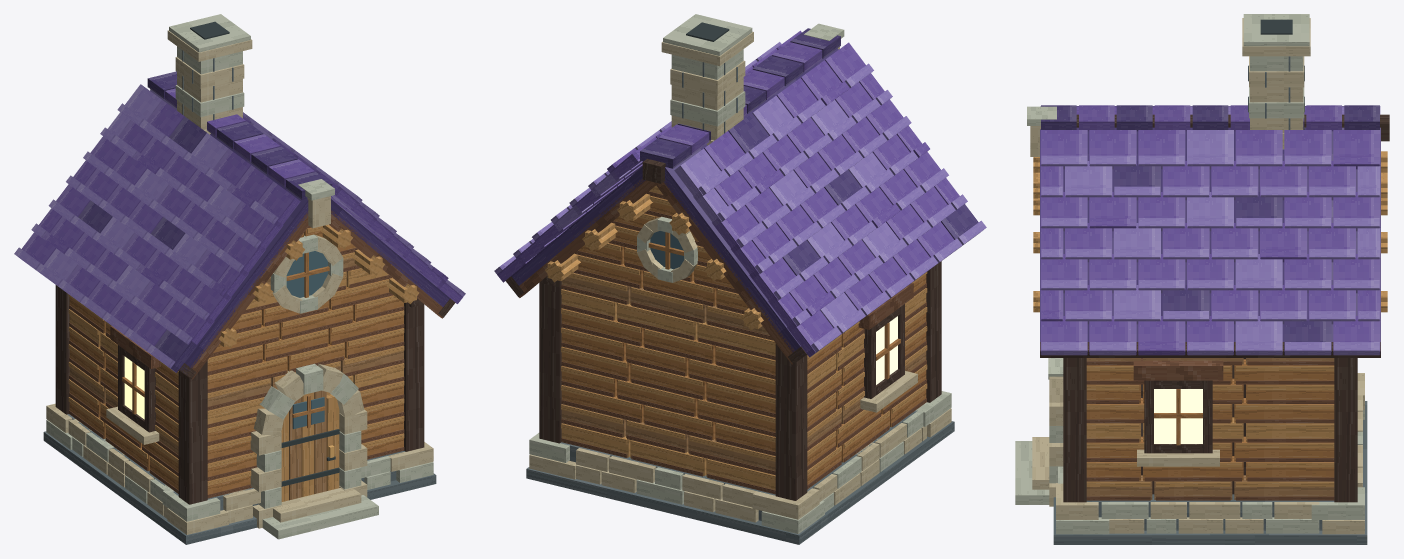
Rendered from seed.glb.
The picture shows the model from 3 angles, left to right: view 1: azimuth 30°, elevation 25°; view 2: azimuth 150°, elevation 25°; view 3: azimuth 270°, elevation 25°; orthographic projection. The views are drawn at different scales.
Parts seen in each view (by area): view 1: roof_geometry, stone_warm_geometry, roof_light_geometry, oak_light_geometry, oak_geometry, stone_light_geometry, wood_geometry, wood_dark_geometry, roof_dark_geometry, stone_dark_geometry, wood_light_geometry, window_geometry (+2 smaller); view 2: roof_geometry, oak_light_geometry, roof_light_geometry, oak_geometry, wood_geometry, stone_warm_geometry, wood_dark_geometry, roof_dark_geometry, stone_light_geometry, stone_dark_geometry, wood_light_geometry, window_glow_geometry (+1 smaller); view 3: roof_geometry, roof_light_geometry, stone_warm_geometry, oak_geometry, wood_dark_geometry, stone_light_geometry, oak_light_geometry, roof_dark_geometry, wood_geometry, stone_dark_geometry, wood_light_geometry, window_glow_geometry (+1 smaller).
Boxes of the visible parts, x1,y1,x2,y2 form: roof_geometry: (22, 88, 462, 346); stone_warm_geometry: (46, 30, 433, 534); roof_light_geometry: (14, 84, 465, 372); oak_light_geometry: (68, 224, 419, 501); oak_geometry: (69, 227, 403, 494); stone_light_geometry: (46, 14, 433, 539); wood_geometry: (69, 210, 442, 498); wood_dark_geometry: (55, 89, 455, 504); roof_dark_geometry: (78, 71, 449, 373); stone_dark_geometry: (43, 50, 436, 544); wood_light_geometry: (69, 252, 403, 500); window_geometry: (286, 251, 327, 429); roof_geometry: (497, 30, 959, 356); oak_light_geometry: (545, 185, 927, 490); roof_light_geometry: (494, 42, 986, 356); oak_geometry: (561, 196, 926, 484); wood_geometry: (519, 179, 926, 494); stone_warm_geometry: (529, 31, 951, 522); wood_dark_geometry: (505, 159, 941, 500); roof_dark_geometry: (511, 28, 978, 354); stone_light_geometry: (529, 14, 951, 533); stone_dark_geometry: (526, 62, 954, 544); wood_light_geometry: (561, 272, 926, 470); window_glow_geometry: (876, 316, 897, 384); roof_geometry: (1040, 105, 1380, 355); roof_light_geometry: (1041, 106, 1380, 355); stone_warm_geometry: (1030, 18, 1364, 534); oak_geometry: (1086, 359, 1334, 480); wood_dark_geometry: (1040, 114, 1389, 502); stone_light_geometry: (1015, 14, 1364, 534); oak_light_geometry: (1033, 151, 1387, 486); roof_dark_geometry: (1040, 105, 1380, 354); wood_geometry: (1086, 358, 1334, 500); stone_dark_geometry: (1053, 56, 1367, 544); wood_light_geometry: (1086, 358, 1334, 499); window_glow_geometry: (1154, 389, 1202, 443).
Bounding box in the file's own units: 3.55 × 4.67 × 3.51.
Materials: 15 (11 with a texture image).
